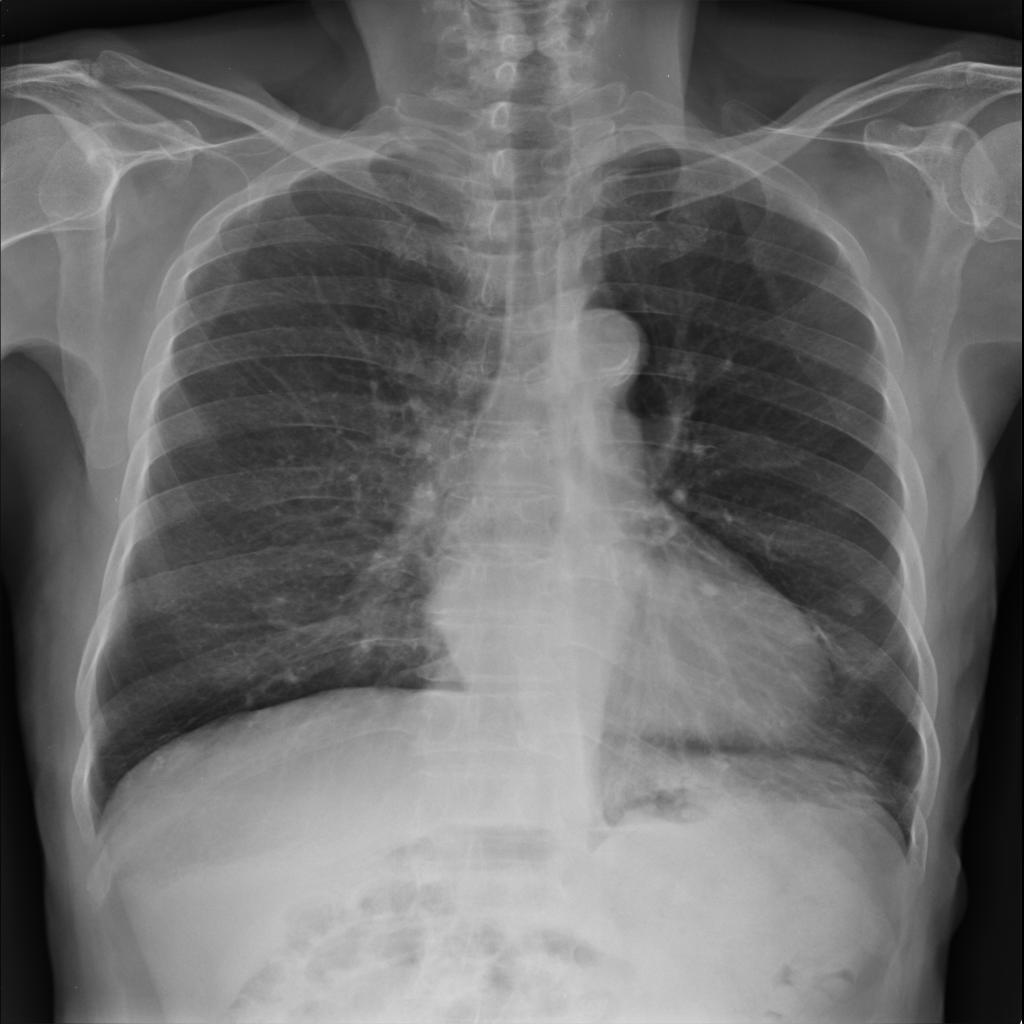Nodule: (841, 601, 865, 616)
